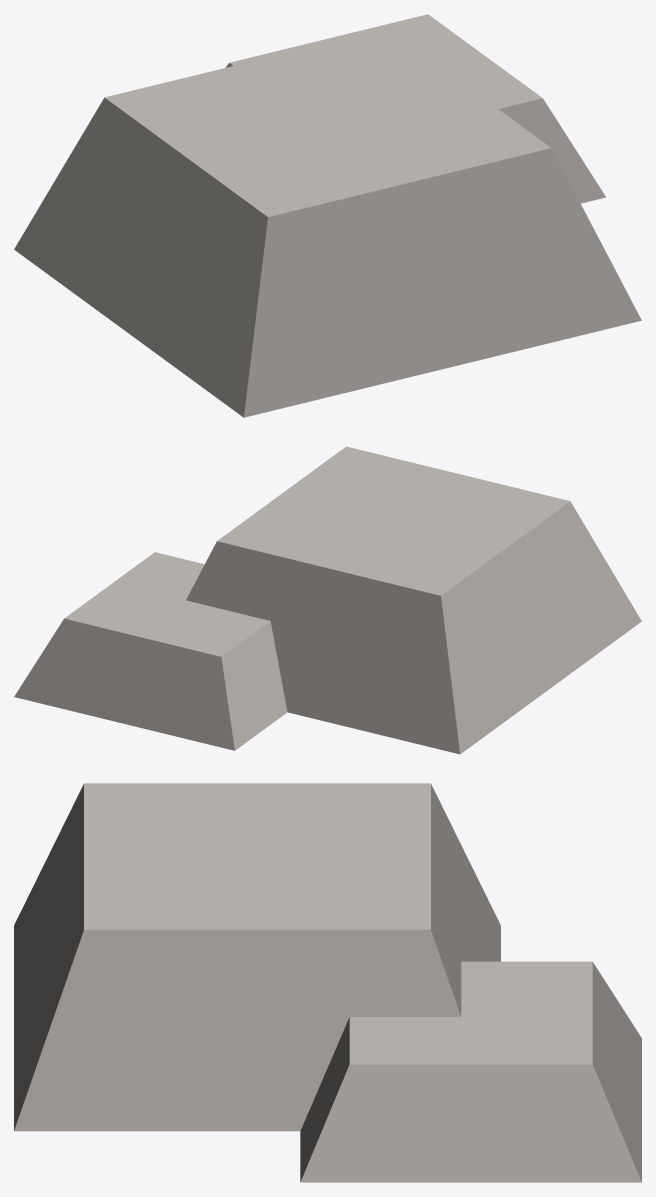
File: SM_Env_Rocks_01.fbx
3 renders of one model, top to bottom at view 1: azimuth 30°, elevation 25°; view 2: azimuth 150°, elevation 25°; view 3: azimuth 270°, elevation 25°, orthographic. The views are drawn at different scales.
Parts seen in each view (by area): view 1: SM_Env_Rocks_01; view 2: SM_Env_Rocks_01; view 3: SM_Env_Rocks_01.
Boxes of the visible parts, x1,y1,x2,y2 form: SM_Env_Rocks_01: (14, 14, 641, 417); SM_Env_Rocks_01: (14, 446, 641, 754); SM_Env_Rocks_01: (14, 783, 641, 1182).
Bounding box in the file's own units: 1 × 0.3117 × 1.03.
